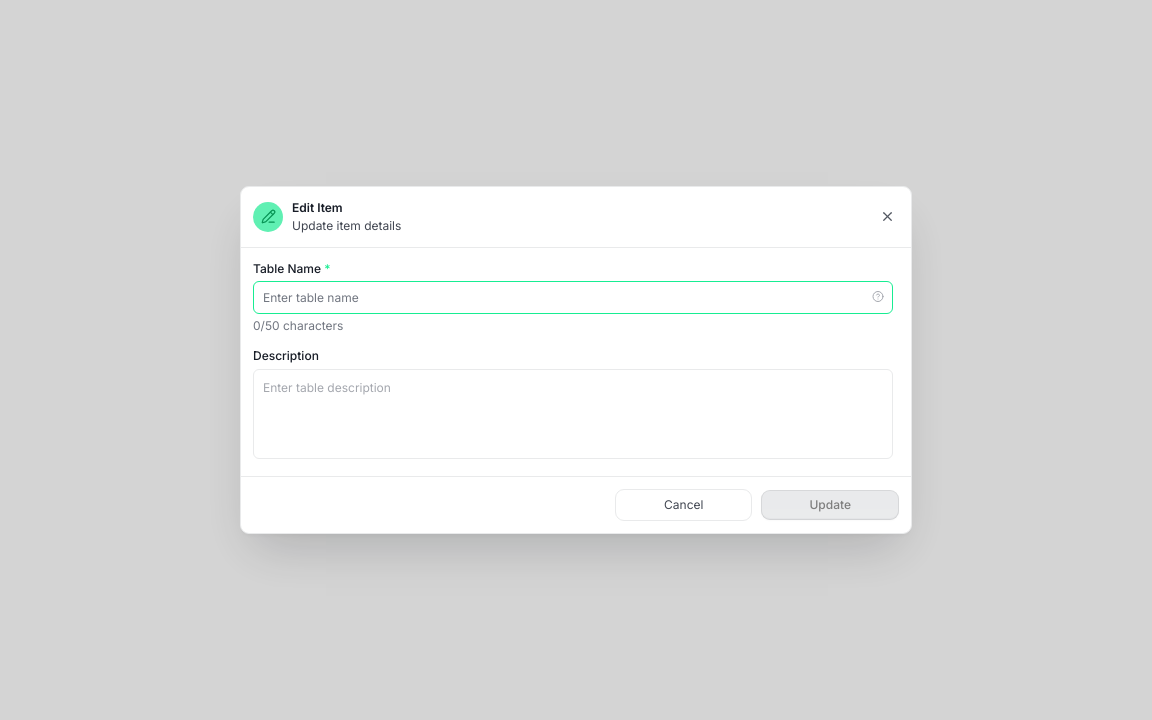
Test: EditItemModal › form validation for table › shows validation error for short name
This screenshot has width=1152, height=720.
Type "AB" into the field labelled "Table Name *" at [573, 297], box [253,281,892,314]
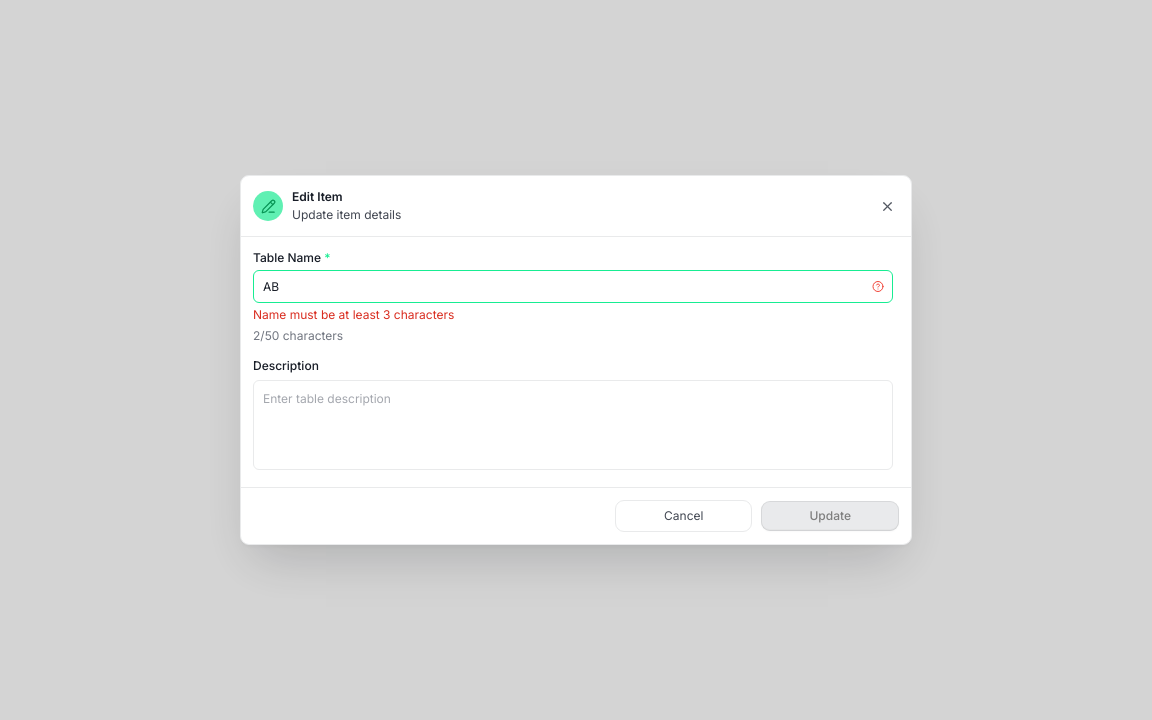
Result: the text "Name must be at least 3 characters" is shown at [253,307,454,322]
